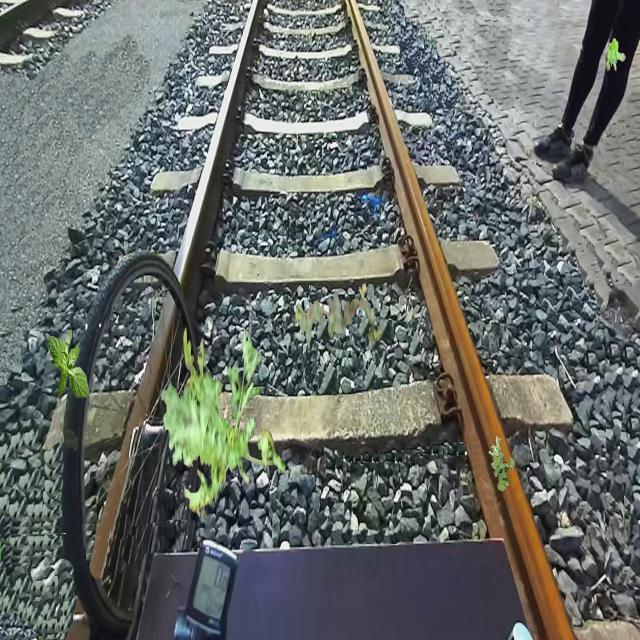Plant: (161, 324, 286, 520), (295, 283, 382, 352), (48, 330, 90, 401), (491, 451, 515, 492), (605, 38, 626, 71), (489, 436, 503, 456)
